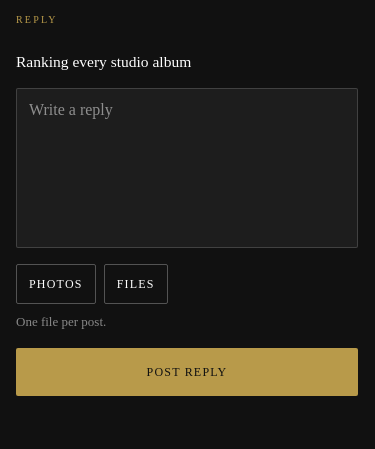
Test: ComposerScreen › shows an attachment error when Android cannot create the smoke fixture
Click the button with test id "forum-composer-attach-files": (136, 284) x1=104 y1=264 x2=168 y2=304
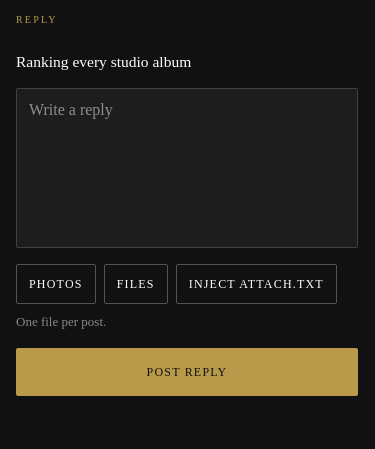
Click the button with test id "forum-composer-attach-inject": (256, 284) x1=176 y1=264 x2=337 y2=304
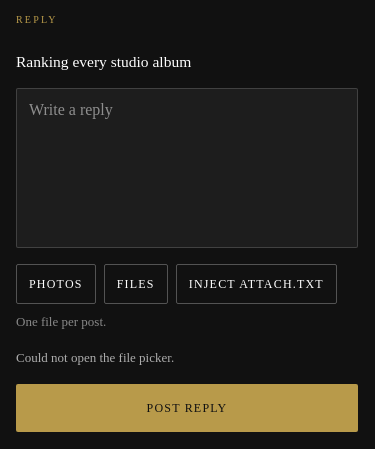
Expected: the text "Could not open the file picker." is shown, x1=16 y1=350 x2=174 y2=365
